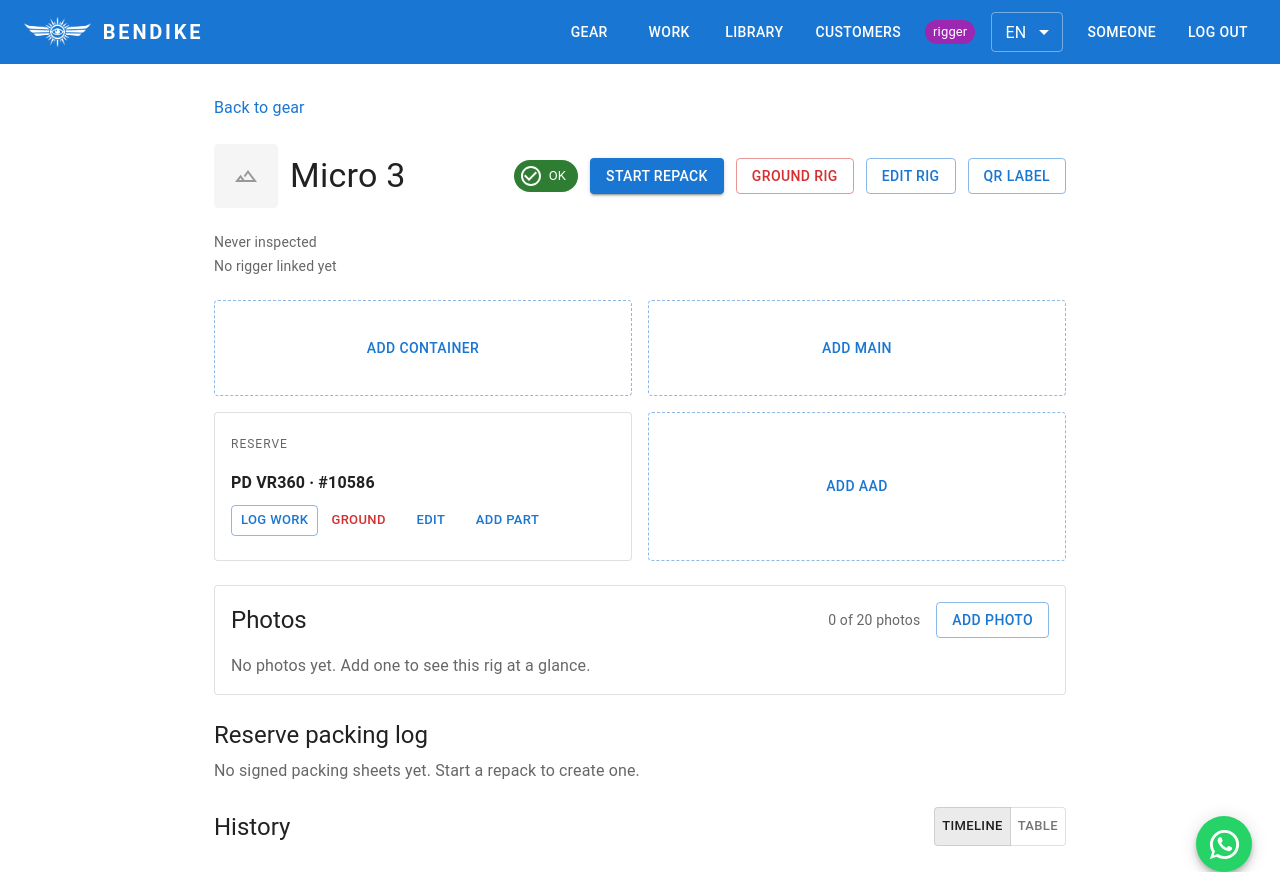
Scenario: RigPage start repack › shows why a pack job could not be started
What coordinates should you click on to do the following:
click the button "Start repack"
I would click on:
 (657, 176)
Its box is [590,158,724,194].
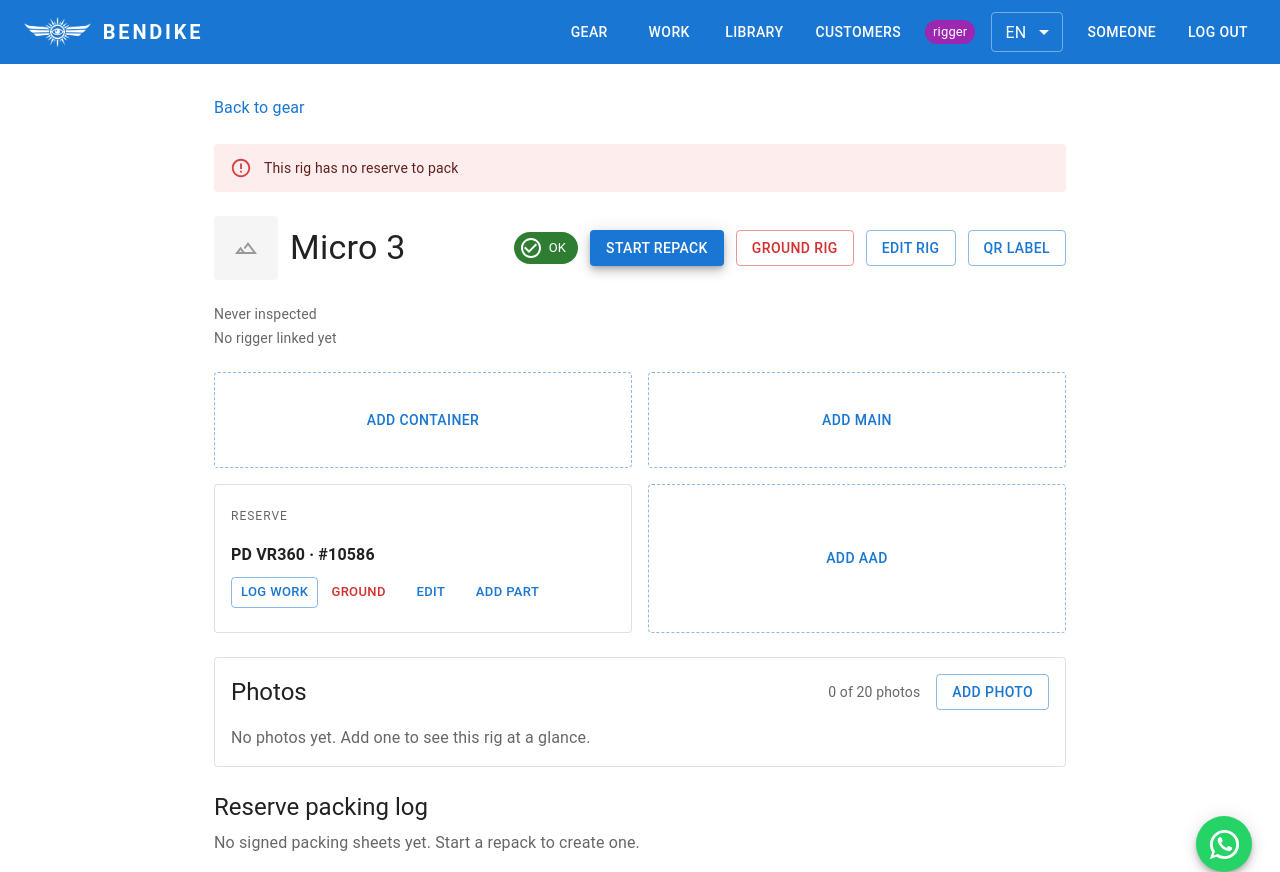
Expected: the text "This rig has no reserve to pack" is shown, [264,160,458,176]
